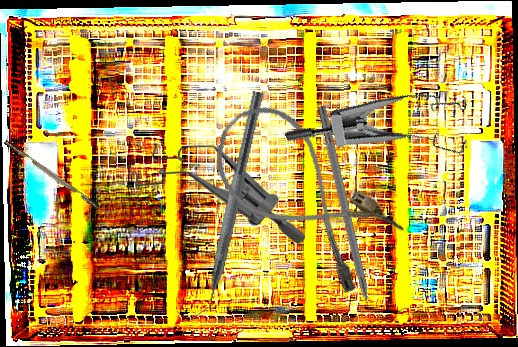Cannula: (193, 88, 412, 301)
Chopper: (187, 87, 265, 325), (3, 134, 116, 220)
Hook Surgical: (314, 105, 378, 332)
Speculum: (283, 61, 485, 214), (127, 141, 305, 246)
